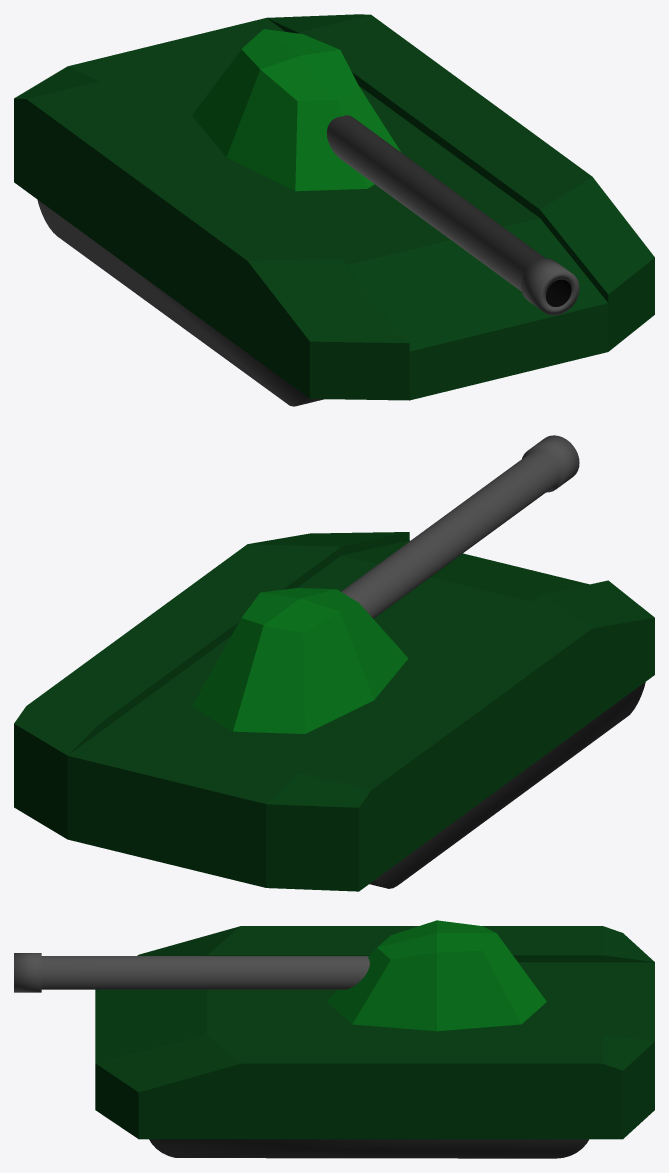
The model's file is Tank.fbx.
3 views of the same model, one above another, from view 1: azimuth 30°, elevation 25°; view 2: azimuth 150°, elevation 25°; view 3: azimuth 270°, elevation 25° (orthographic). The views are drawn at different scales.
Visible parts, largest first — view 1: Cube, Cube.001, Cylinder.001, Cylinder.002; view 2: Cube, Cube.001, Cylinder.001, Cylinder.002; view 3: Cube, Cube.001, Cylinder.001, Cylinder.
Boxes of the visible parts, bbox=[...] form: Cube: bbox=[14, 14, 654, 400]; Cube.001: bbox=[192, 29, 401, 191]; Cylinder.001: bbox=[327, 115, 579, 315]; Cylinder.002: bbox=[37, 200, 323, 406]; Cube: bbox=[14, 532, 654, 891]; Cube.001: bbox=[192, 588, 408, 733]; Cylinder.001: bbox=[341, 435, 579, 618]; Cylinder.002: bbox=[369, 682, 645, 888]; Cube: bbox=[95, 926, 654, 1139]; Cube.001: bbox=[327, 920, 546, 1031]; Cylinder.001: bbox=[14, 953, 369, 992]; Cylinder: bbox=[149, 1139, 588, 1158].
Bounding box in the file's own units: 862 × 459 × 1694.
